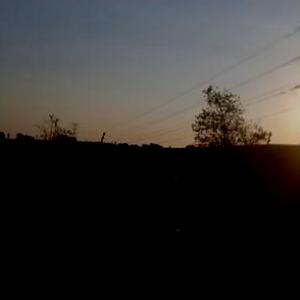follow: (132, 162, 190, 299)
